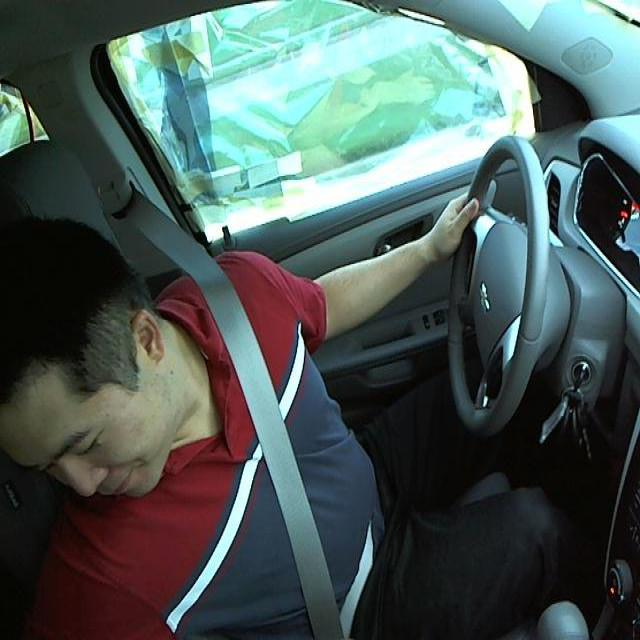seatbelt: (148, 262, 389, 638)
